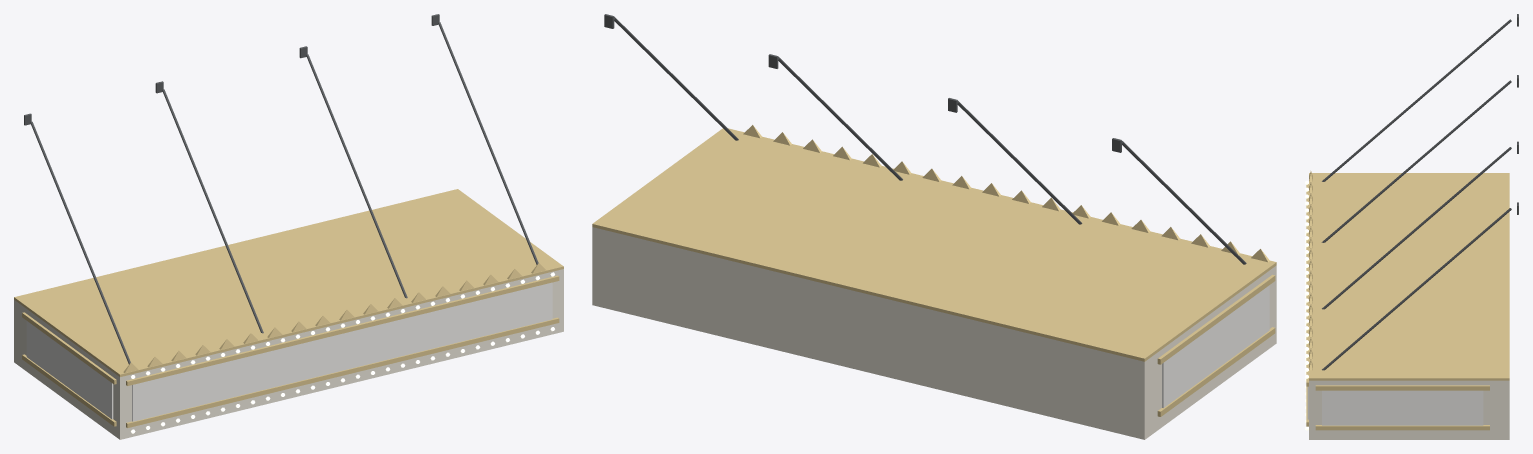
File: marquee.glb
The picture shows the model from 3 angles, left to right: view 1: azimuth 30°, elevation 25°; view 2: azimuth 150°, elevation 25°; view 3: azimuth 270°, elevation 25°; orthographic projection. The views are drawn at different scales.
Parts seen in each view (by area): view 1: marquee_gold, marquee_board, marquee_marquee, marquee_iron, marquee_lamp_glass; view 2: marquee_gold, marquee_marquee, marquee_board, marquee_iron; view 3: marquee_gold, marquee_board, marquee_marquee, marquee_iron, marquee_lamp_glass.
Boxes of the visible parts, bbox=[...] form: marquee_gold: bbox=[14, 189, 563, 428]; marquee_board: bbox=[26, 282, 552, 421]; marquee_marquee: bbox=[14, 269, 563, 439]; marquee_iron: bbox=[24, 14, 538, 364]; marquee_lamp_glass: bbox=[131, 272, 554, 433]; marquee_gold: bbox=[592, 125, 1276, 416]; marquee_marquee: bbox=[592, 227, 1276, 439]; marquee_board: bbox=[1162, 285, 1269, 407]; marquee_iron: bbox=[604, 14, 1246, 264]; marquee_gold: bbox=[1306, 171, 1509, 430]; marquee_board: bbox=[1307, 386, 1483, 425]; marquee_marquee: bbox=[1309, 380, 1509, 439]; marquee_iron: bbox=[1321, 14, 1518, 370]; marquee_lamp_glass: bbox=[1305, 180, 1308, 430].
Size of the model in its own units: 7.48 by 3.88 by 3.26.
